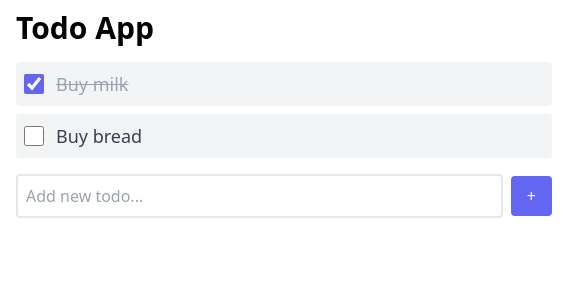
TodoApp › adds new todo item
Step 1. Type "Test new task" into the field with placeholder "Add new todo..." → (259, 196), box [16,174,503,218]
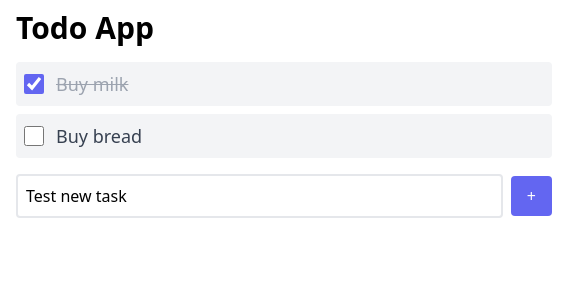
Step 2. Click the button "+" → (531, 196), box [511,176,552,216]
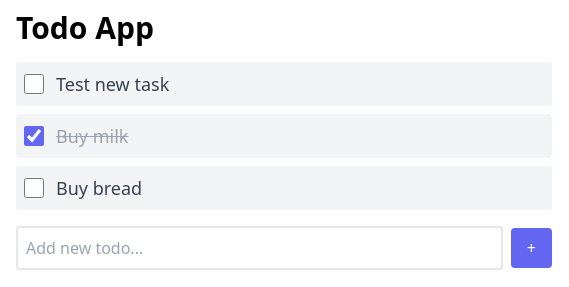
Result: the text "Test new task" is shown at [56,70,169,98]
